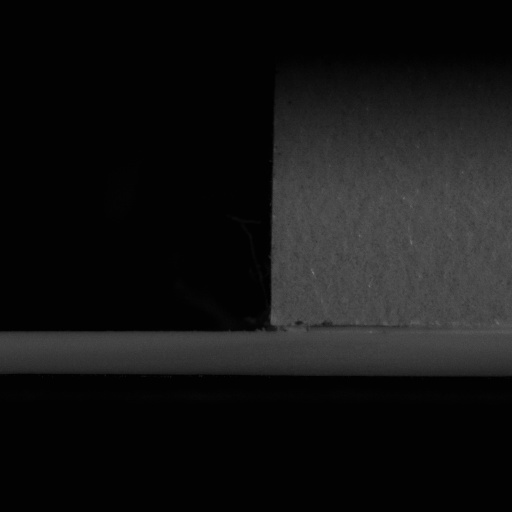changdai: (0, 325, 276, 380)
